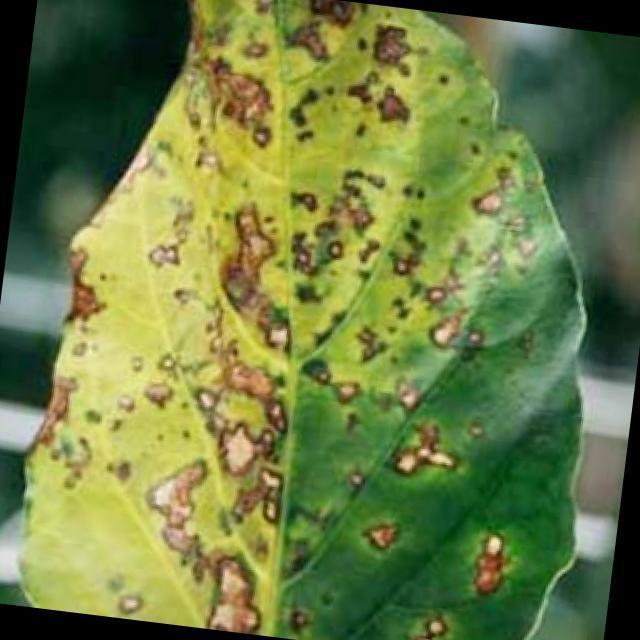Bacterial Spot: (81, 131, 551, 640)
